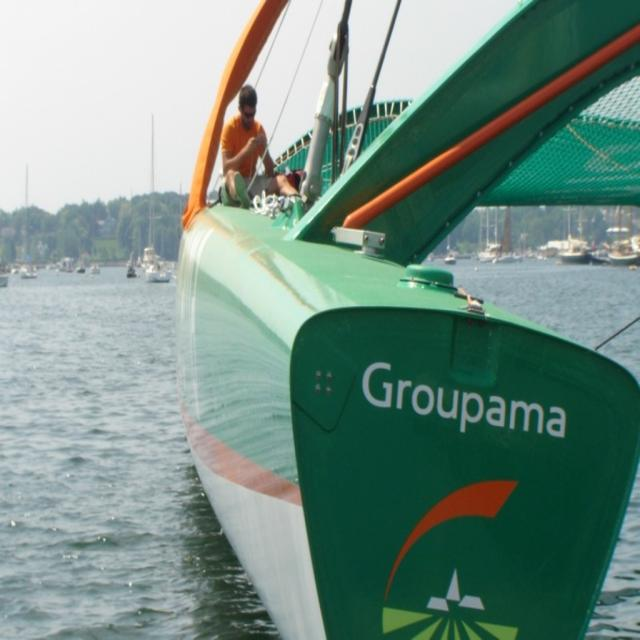Boat: (201, 12, 640, 619), (495, 208, 520, 262), (536, 226, 579, 256), (478, 199, 498, 262), (610, 228, 639, 269), (562, 233, 592, 259), (145, 254, 170, 280), (584, 243, 613, 264), (56, 256, 74, 276), (142, 244, 158, 266), (124, 256, 135, 278), (444, 248, 455, 266), (21, 268, 36, 277), (91, 263, 100, 274), (76, 262, 86, 271)
